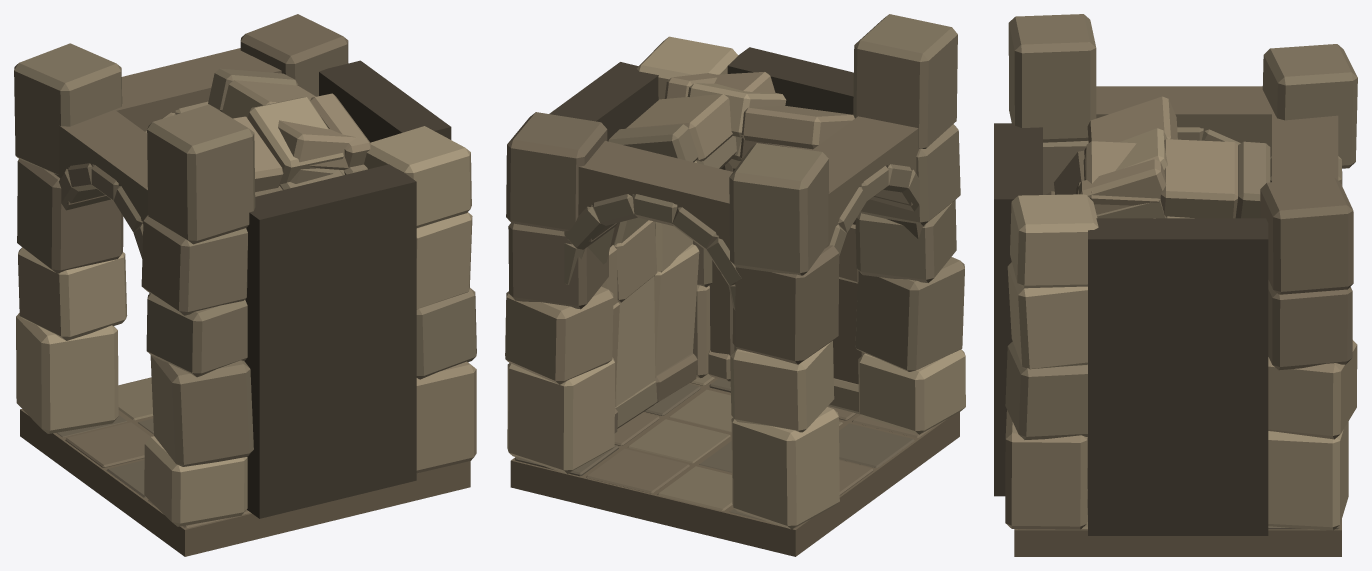
File: cripta-curva.glb
The picture shows the model from 3 angles, left to right: view 1: azimuth 30°, elevation 25°; view 2: azimuth 150°, elevation 25°; view 3: azimuth 270°, elevation 25°; orthographic projection.
Parts seen in each view (by area): view 1: cripta-curva2; view 2: cripta-curva2; view 3: cripta-curva2.
Part boxes in pixels (bbox=[...]): cripta-curva2: bbox=[14, 14, 476, 556]; cripta-curva2: bbox=[505, 14, 965, 556]; cripta-curva2: bbox=[994, 14, 1357, 556].
Bounding box in the file's own units: 4.41 × 5.48 × 4.45.
